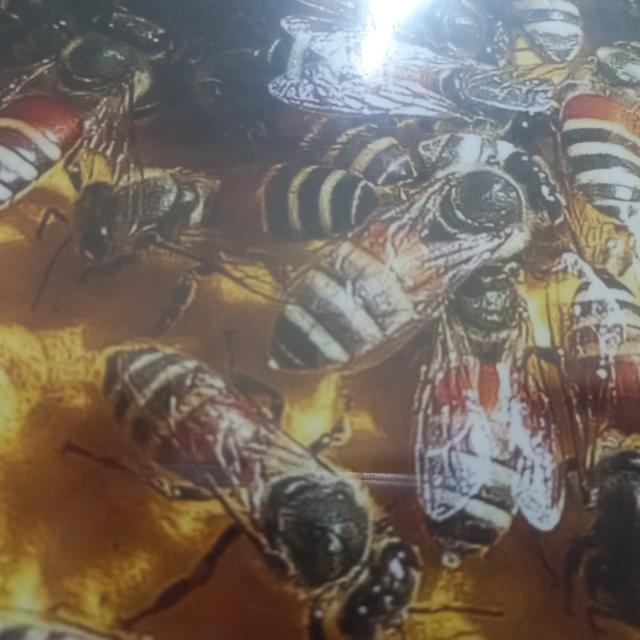honeybee: (60, 379, 397, 626), (424, 279, 577, 577), (10, 12, 174, 127), (54, 170, 234, 268), (415, 162, 525, 273)
